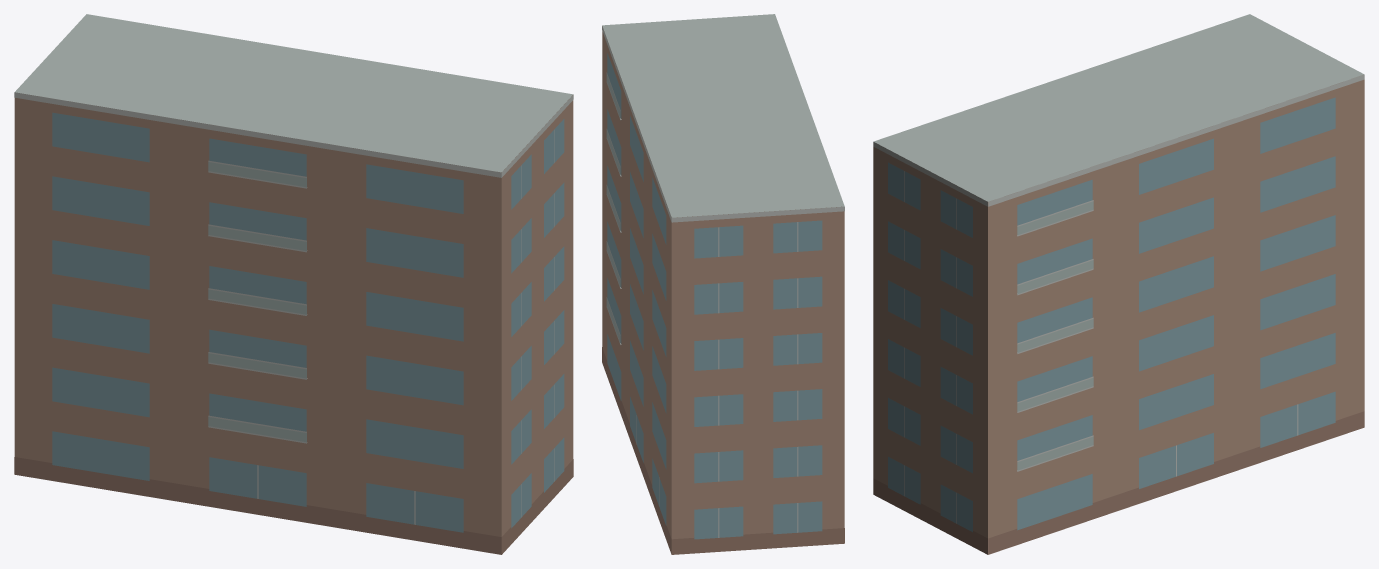
File: survey-upis-32733449.glb
3 renders of one model, left to right at view 1: azimuth 30°, elevation 25°; view 2: azimuth 150°, elevation 25°; view 3: azimuth 270°, elevation 25°, orthographic. The views are drawn at different scales.
Visible parts, largest first — view 1: survey-upis-32733449.tmp; view 2: survey-upis-32733449.tmp; view 3: survey-upis-32733449.tmp.
Part boxes in pixels (bbox=[...]): survey-upis-32733449.tmp: bbox=[14, 14, 573, 554]; survey-upis-32733449.tmp: bbox=[602, 14, 844, 554]; survey-upis-32733449.tmp: bbox=[873, 14, 1364, 554].
Bounding box in the file's own units: 19.64 × 17.2 × 21.71.
